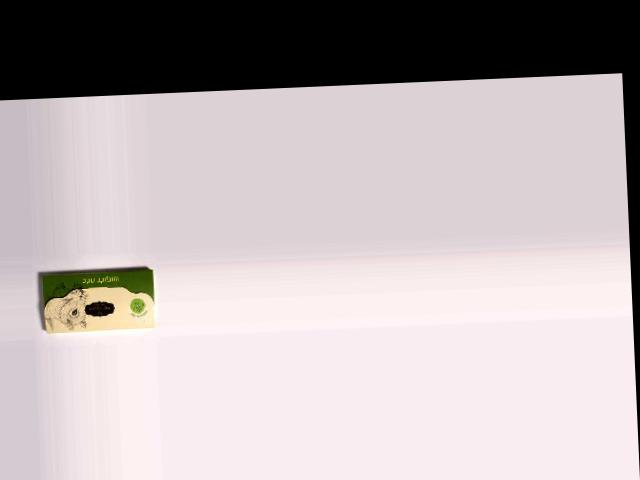chocolate: (40, 267, 156, 334)
